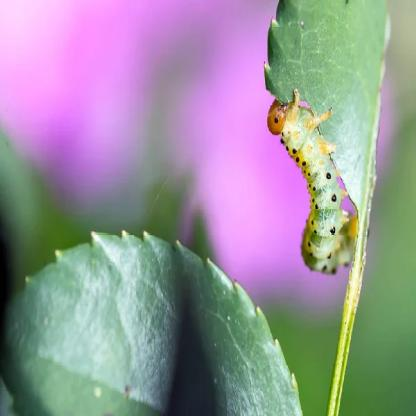sawfly: (264, 89, 364, 273)
